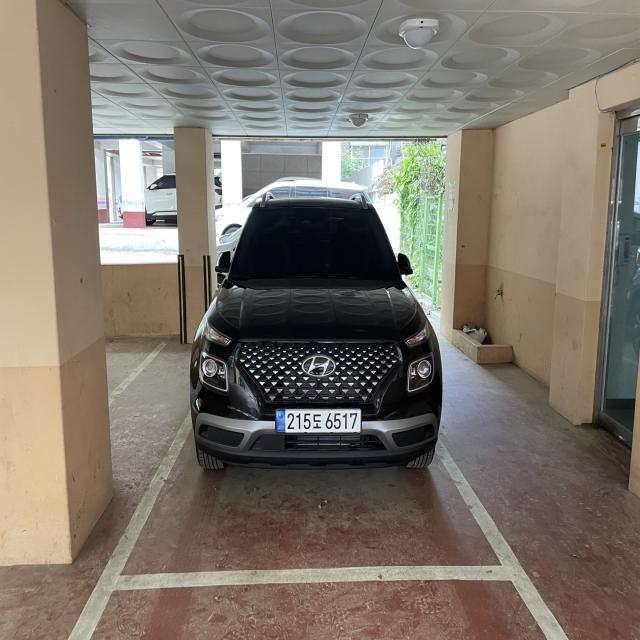occupied: (191, 183, 450, 477)
